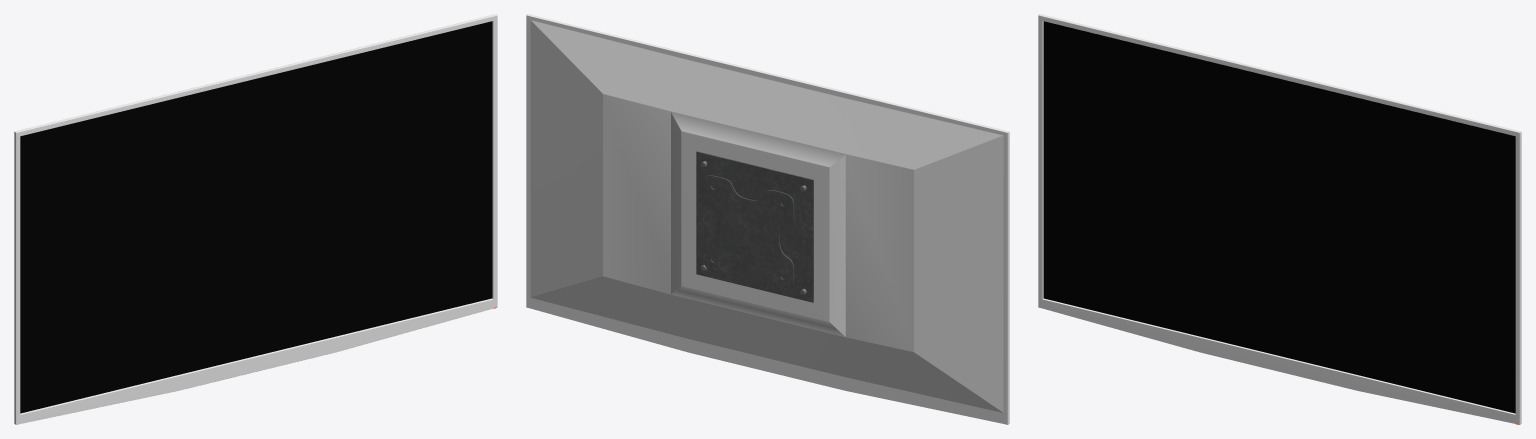
3 views of the same model, side by side, from view 1: azimuth 30°, elevation 25°; view 2: azimuth 150°, elevation 25°; view 3: azimuth 330°, elevation 25° (orthographic).
Parts seen in each view (by area): view 1: Plane.082; view 2: Plane.082; view 3: Plane.082.
Boxes of the visible parts, box(x1,y1,x2,y2) form: Plane.082: box(14, 14, 497, 424); Plane.082: box(526, 14, 1009, 424); Plane.082: box(1038, 14, 1521, 424).
Bounding box in the file's own units: 1.35 × 0.7992 × 0.1008.
Materials: 5 (3 with a texture image).
